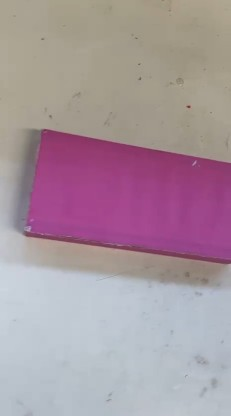pink: (41, 117, 224, 261)
